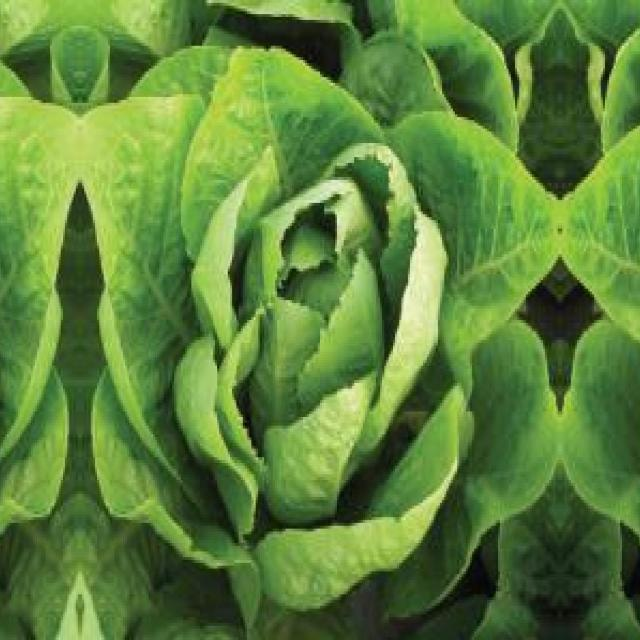healthy: (80, 26, 560, 634), (0, 26, 80, 633), (560, 26, 640, 633)
